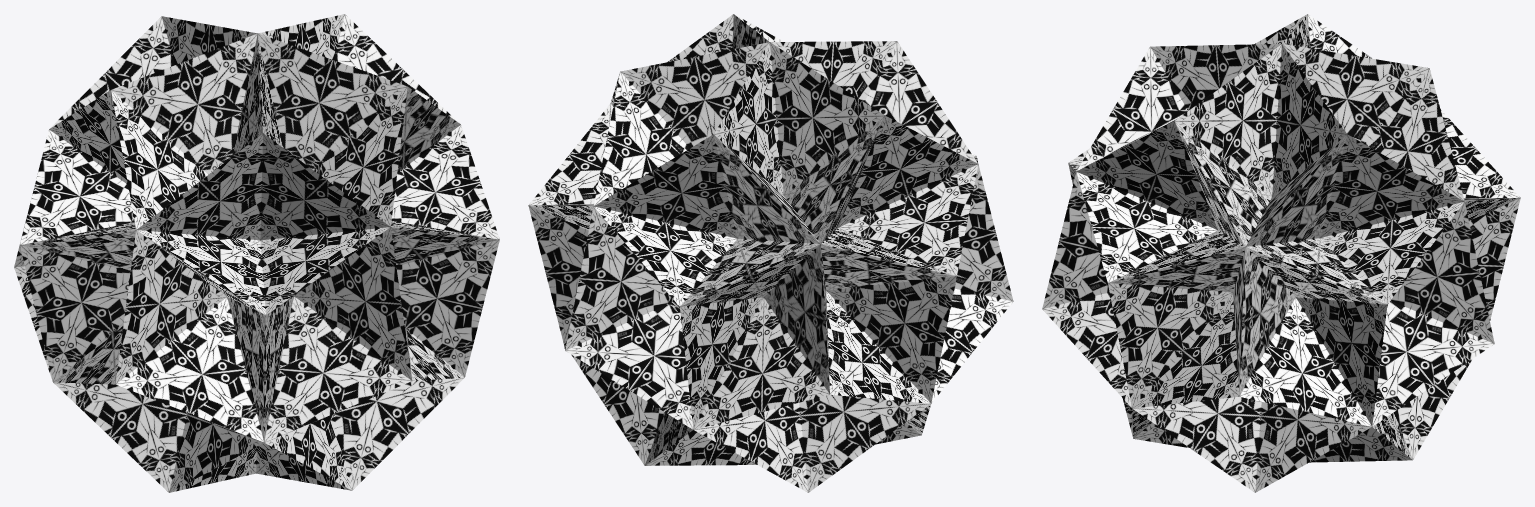
The model's file is _Mobius120b_10.obj.
3 renders of one model, left to right at view 1: azimuth 30°, elevation 25°; view 2: azimuth 150°, elevation 25°; view 3: azimuth 270°, elevation 25°, orthographic. The views are drawn at different scales.
Bounding box in the file's own units: 3.09 × 3.02 × 3.11.
1 material, 1 textured.
